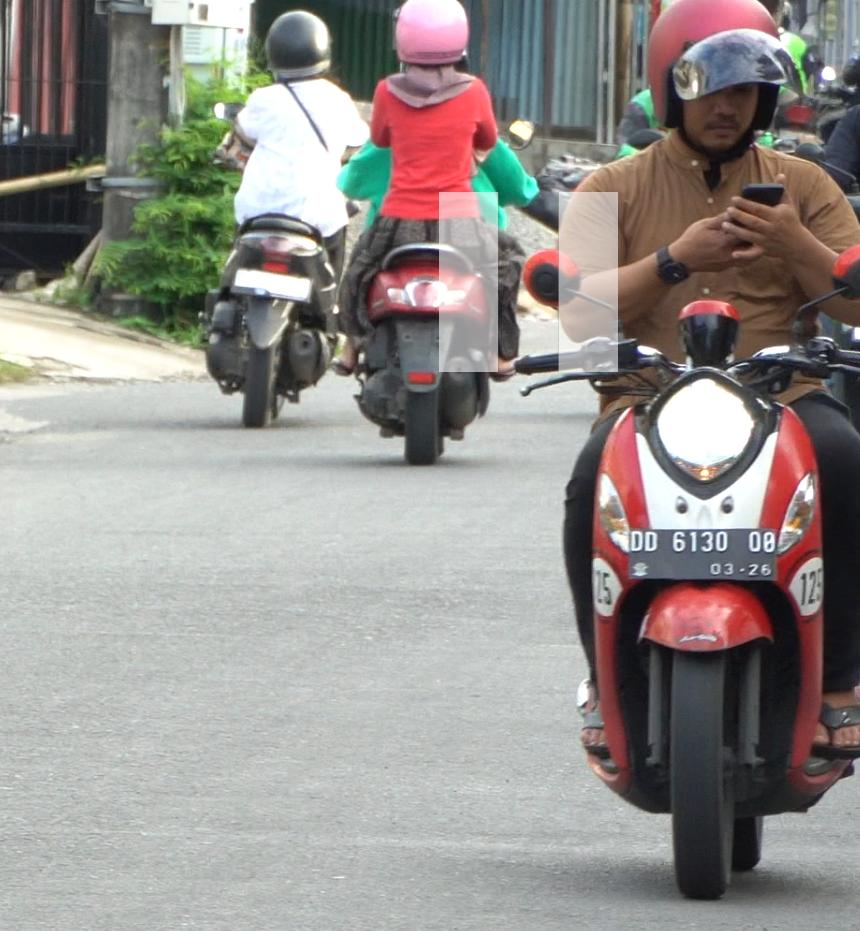number-plate: (625, 526, 781, 580)
